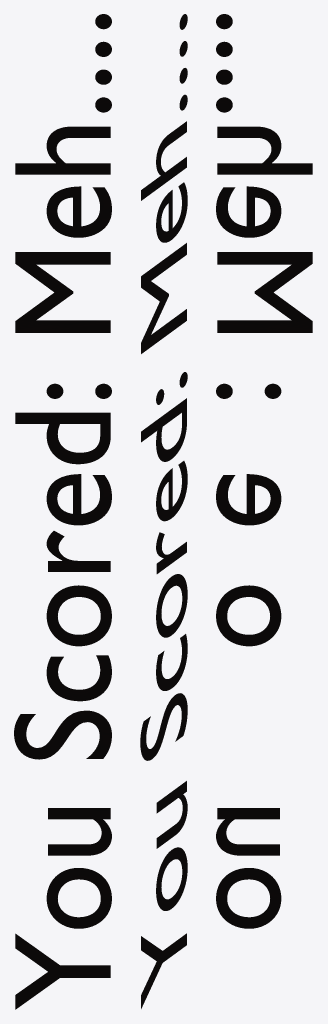
Rendered from point2.dae.
3 views of the same model, side by side, from view 1: azimuth 90°, elevation 25°; view 2: azimuth 150°, elevation 25°; view 3: azimuth 270°, elevation 25° (orthographic). The views are drawn at different scales.
Visible parts, largest first — view 1: Text; view 2: Text; view 3: Text.
Boxes of the visible parts, bbox=[...] form: Text: bbox=[14, 14, 111, 1009]; Text: bbox=[140, 14, 187, 1008]; Text: bbox=[216, 14, 312, 928].
Size of the model in its own units: 3.43e-07 by 0.7 by 7.85.
1 material, 1 textured.
